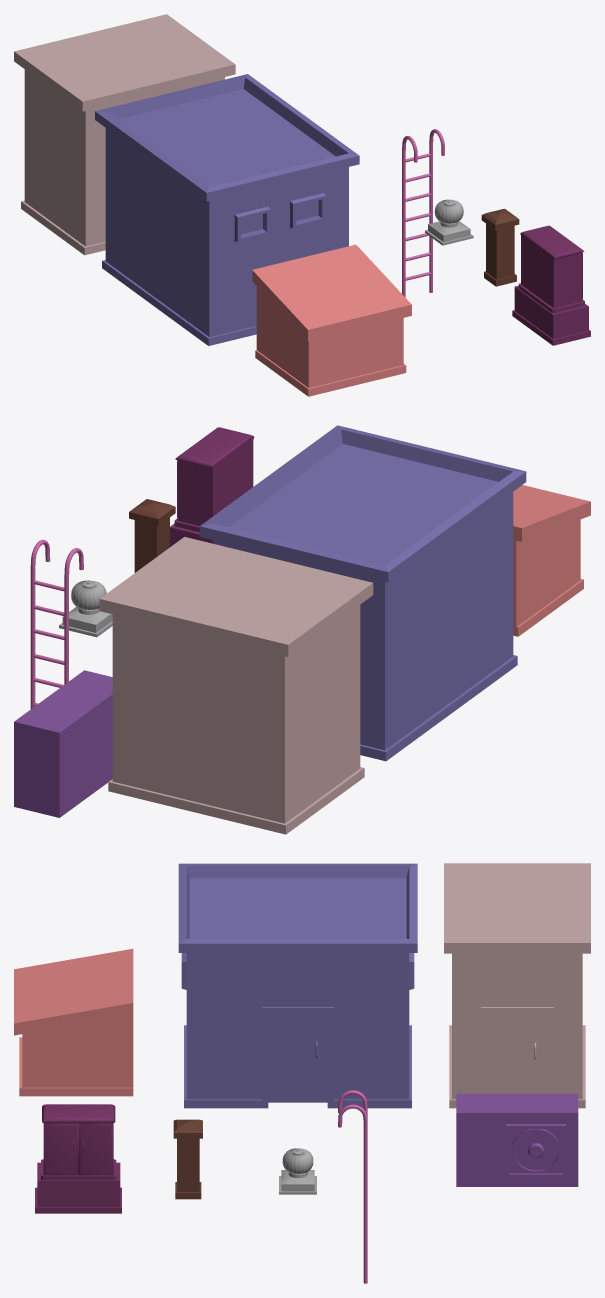
The model's file is rooftopassets.fbx.
3 views of the same model, one above another, from view 1: azimuth 30°, elevation 25°; view 2: azimuth 150°, elevation 25°; view 3: azimuth 270°, elevation 25° (orthographic). The views are drawn at different scales.
Parts seen in each view (by area): view 1: Hut1_low, Hut2_low, Hut3_low, pCube21, pCube14, pCylinder39, group2_pCylinder1; view 2: Hut2_low, Hut1_low, pCube23, Hut3_low, pCube21, pCylinder39, pCube14, group2_pCylinder1; view 3: Hut1_low, Hut2_low, Hut3_low, pCube23, pCube21, pCube14, group2_pCylinder1, pCylinder39.
Part boxes in pixels (x1,y1,x2,y2): Hut1_low: (95, 74, 359, 345); Hut2_low: (14, 14, 235, 255); Hut3_low: (252, 244, 411, 396); pCube21: (512, 225, 590, 345); pCube14: (481, 208, 519, 286); pCylinder39: (402, 129, 444, 297); group2_pCylinder1: (425, 199, 473, 245); Hut2_low: (99, 537, 373, 834); Hut1_low: (199, 425, 526, 761); pCube23: (14, 670, 112, 817); Hut3_low: (513, 485, 590, 636); pCube21: (170, 427, 254, 546); pCylinder39: (30, 539, 83, 708); pCube14: (129, 499, 175, 572); group2_pCylinder1: (59, 580, 112, 637); Hut1_low: (178, 863, 417, 1108); Hut2_low: (444, 863, 590, 1108); Hut3_low: (14, 948, 133, 1096); pCube23: (456, 1093, 578, 1186); pCube21: (35, 1104, 121, 1213); pCube14: (173, 1119, 202, 1199); group2_pCylinder1: (279, 1148, 316, 1194); pCylinder39: (338, 1090, 367, 1283).
Bounding box in the file's own units: 7.16 × 5.18 × 10.52.
